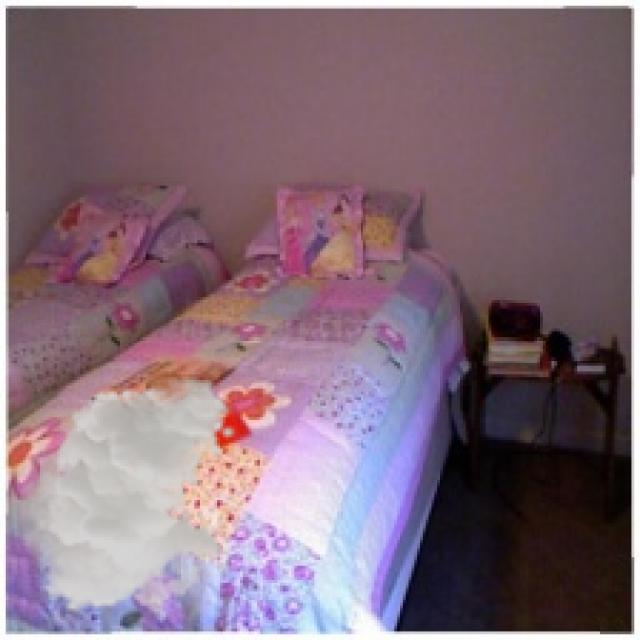smoke: (12, 377, 237, 614)
